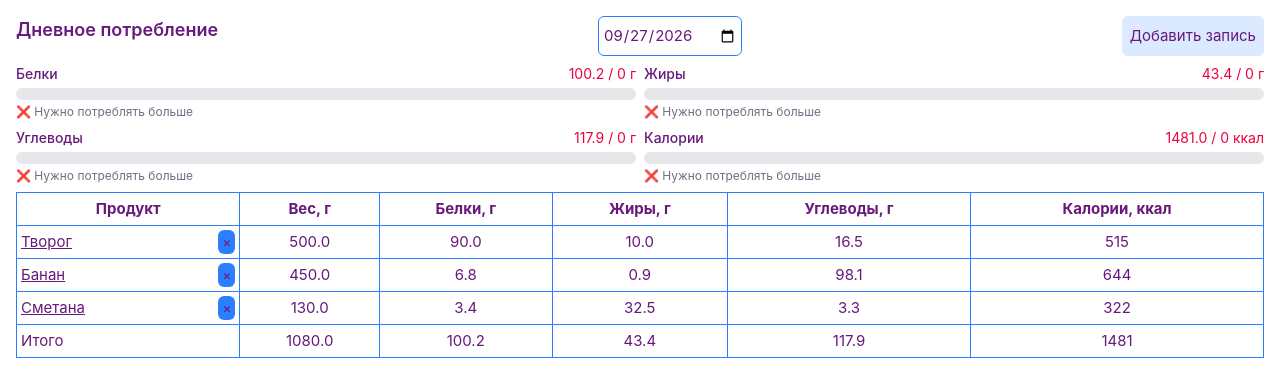
Test: DailyMeals › отображает список потребленных продуктов из стора при смене даты
This screenshot has width=1280, height=375.
In the date field with test id "daily-meals-date": (670, 36) [598, 16, 742, 56], type "2023-01-01"
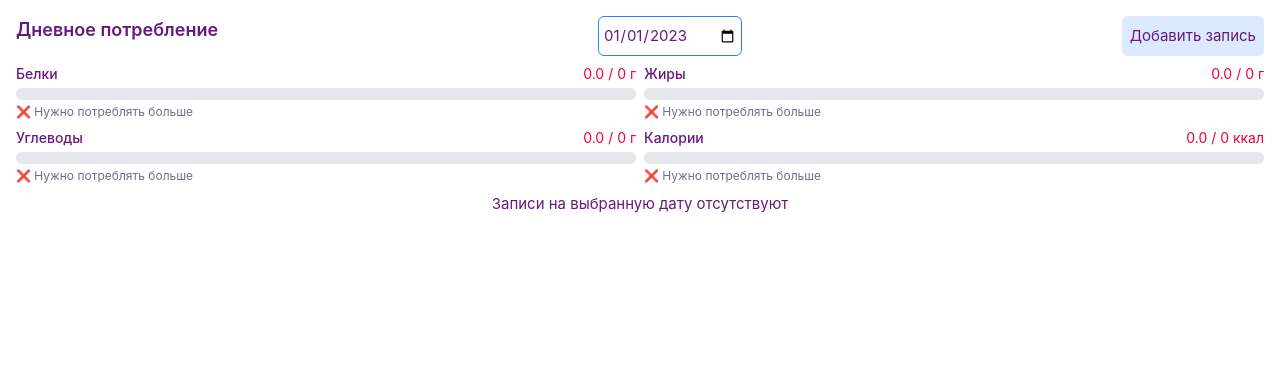
Result: the text "Записи на выбранную дату отсутствуют" is shown at [492, 194, 788, 213]
